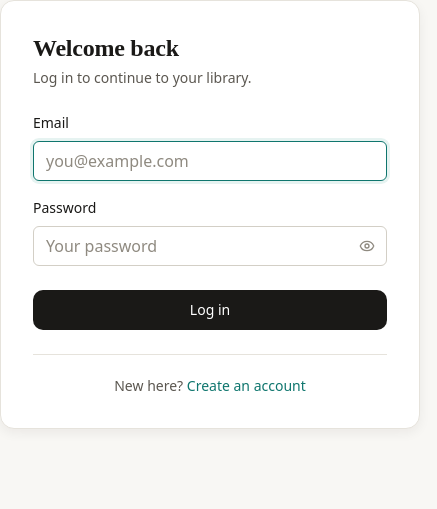
Test: LoginPage › shows the server error for wrong credentials
Type "mobina@example.com" into the field labelled "Email" at (210,161), box 33,141 -> 387,181
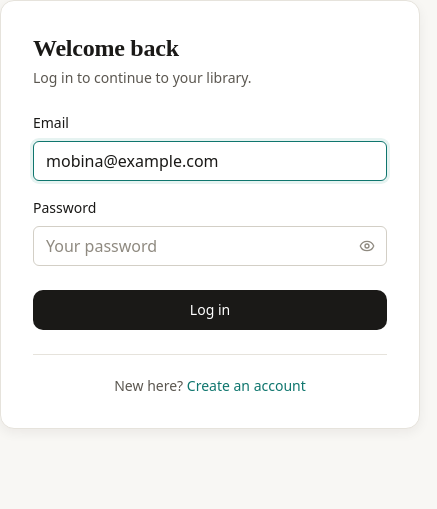
Type "wrong" into the password field labelled "Password" at (210,246), box 33,226 -> 387,266
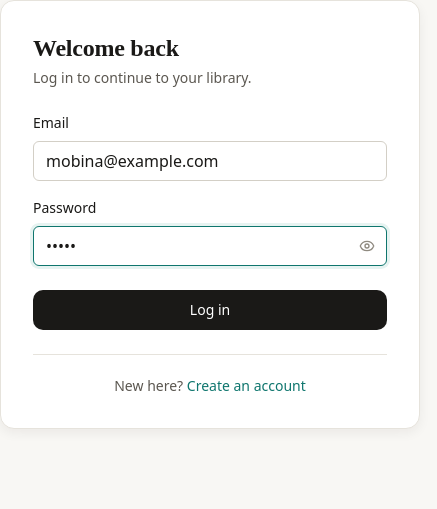
Click the button "Log in" at (210,310), box 33,290 -> 387,330
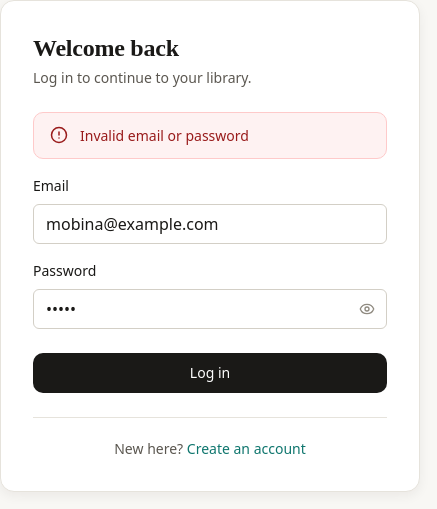
Expected: the button "Log in" is enabled, 33,353 -> 387,393
Expected: the message reads "Invalid email or password", 80,126 -> 249,145
